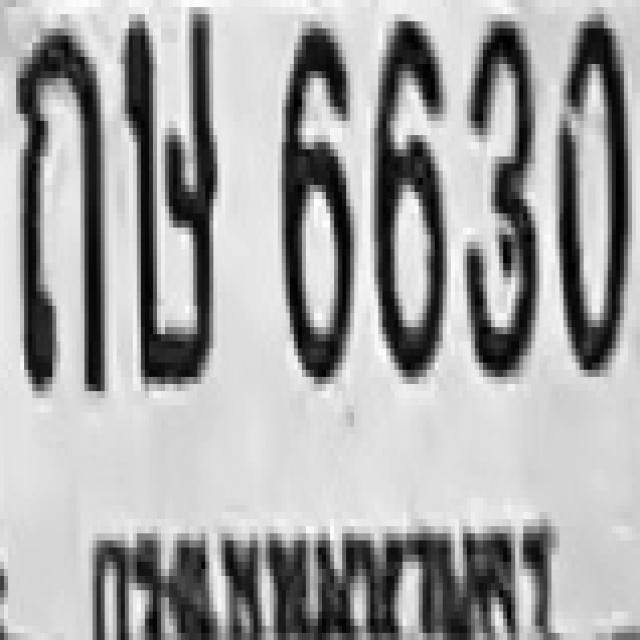0: (553, 7, 626, 370)
3: (461, 14, 533, 370)
31ThorThung: (12, 21, 105, 384)
48SorRueSi: (119, 3, 215, 380)
6: (278, 18, 350, 380), (370, 14, 443, 370)
Bangkok: (76, 505, 564, 640)
